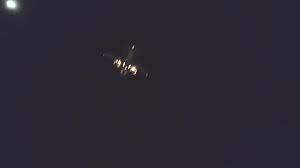Plane: (95, 31, 165, 88)
